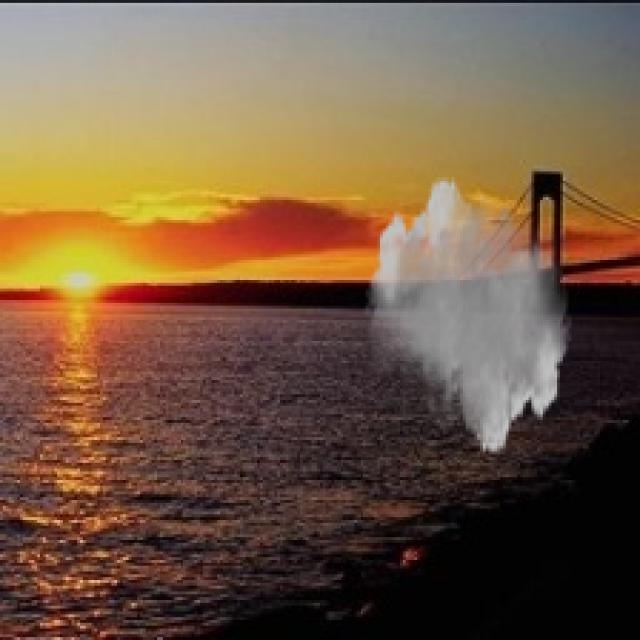smoke: (366, 174, 571, 457)
